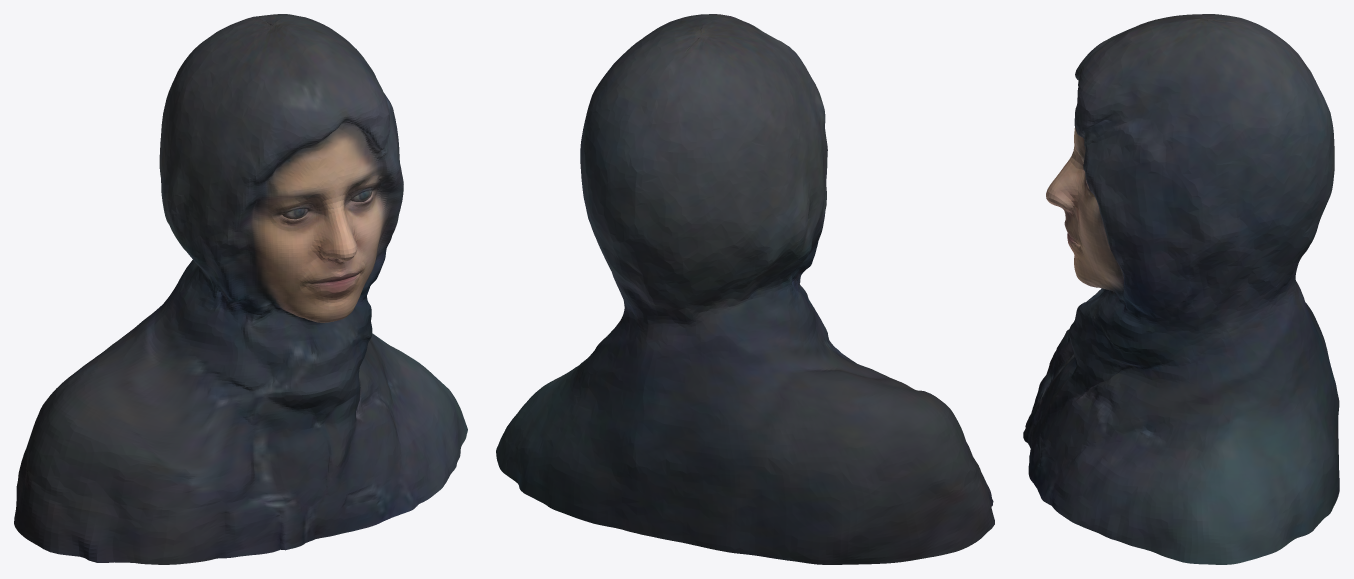
File: faryal.glb
The picture shows the model from 3 angles, left to right: view 1: azimuth 30°, elevation 25°; view 2: azimuth 150°, elevation 25°; view 3: azimuth 270°, elevation 25°; orthographic projection. The views are drawn at different scales.
Visible parts, largest first — view 1: Node1; view 2: Node1; view 3: Node1.
Part boxes in pixels (left/top/right/bottom): Node1: left=14, top=14, right=467, bottom=564; Node1: left=496, top=14, right=994, bottom=564; Node1: left=1023, top=14, right=1339, bottom=564.
Size of the model in its own units: 0.4086 by 0.3861 by 0.244.
1 material, 1 textured.
